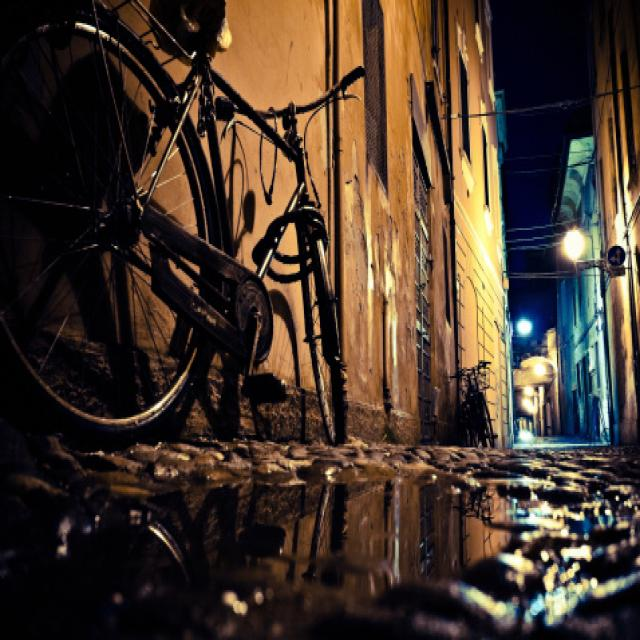Bicycle: (3, 7, 395, 458), (448, 353, 505, 444)
